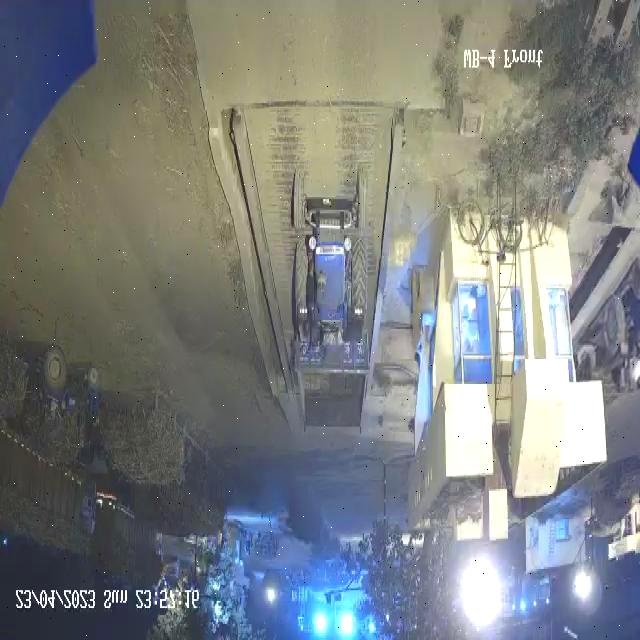Tratores - v5 YOLO V8L 2024-11-13: (288, 157, 368, 347), (40, 355, 108, 434)
